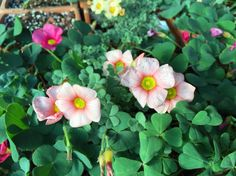oxalis: (134, 110, 222, 176), (102, 103, 134, 155), (28, 145, 75, 176)
